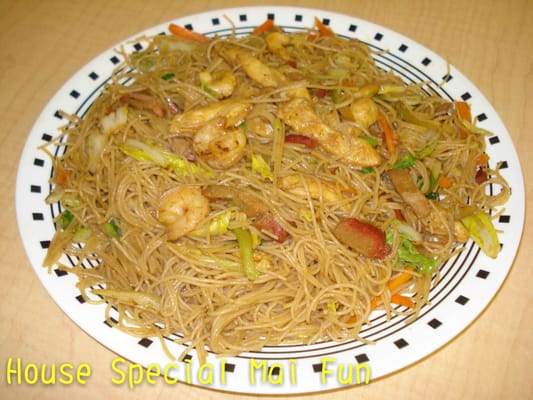curry: (2, 0, 531, 400)
